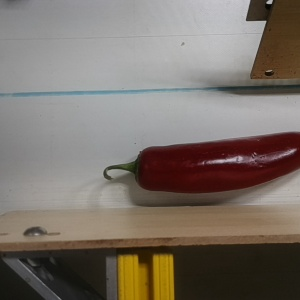Cut Point: (126, 145, 156, 190)
